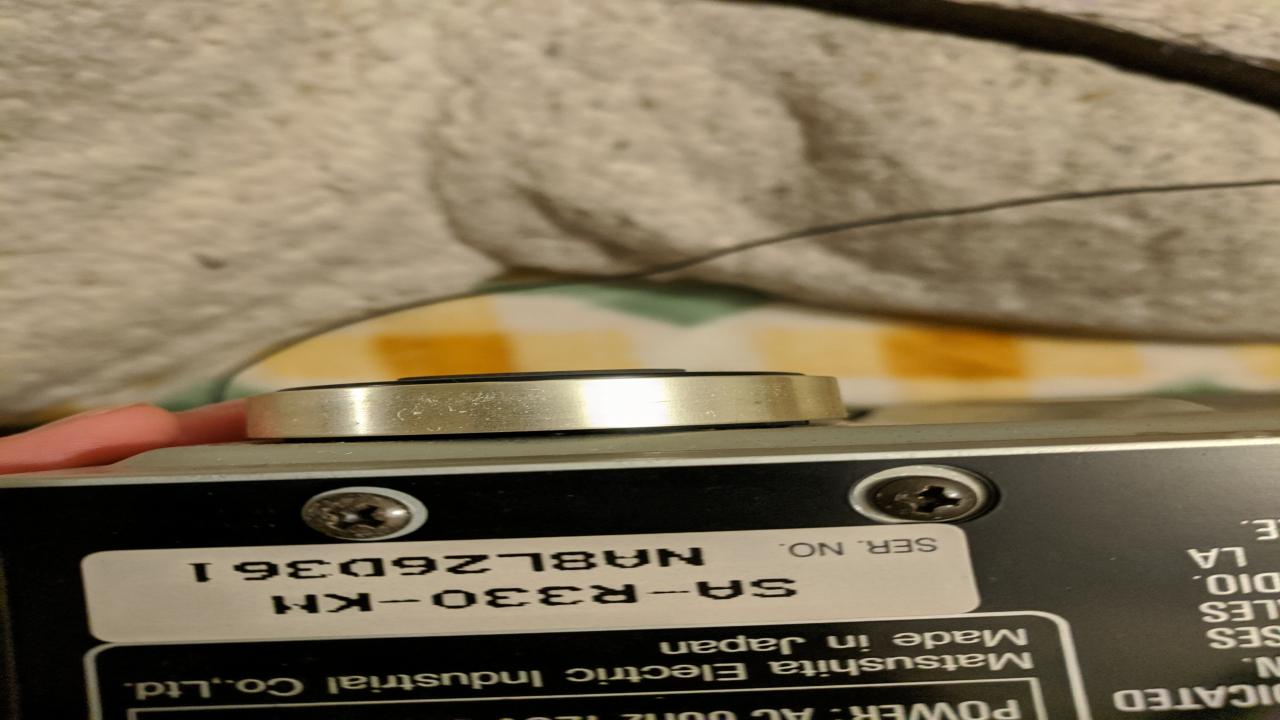CRS: (304, 493, 412, 538), (871, 476, 980, 520)
